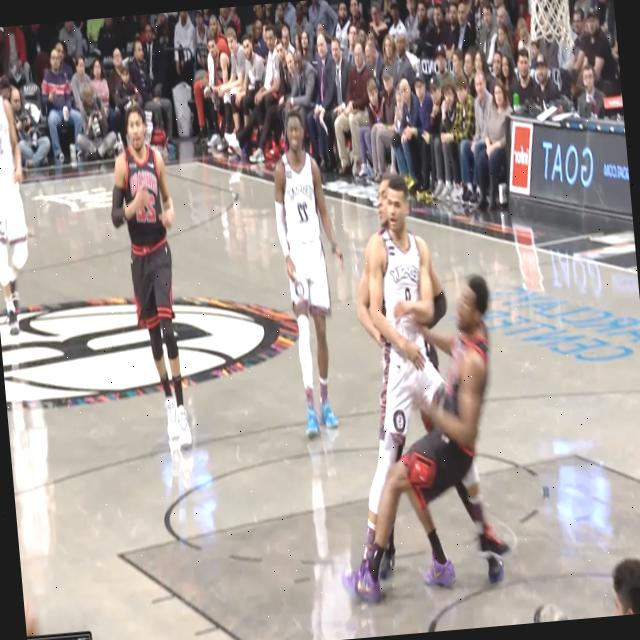foul: (292, 143, 570, 634)
no foul: (96, 69, 360, 473)
